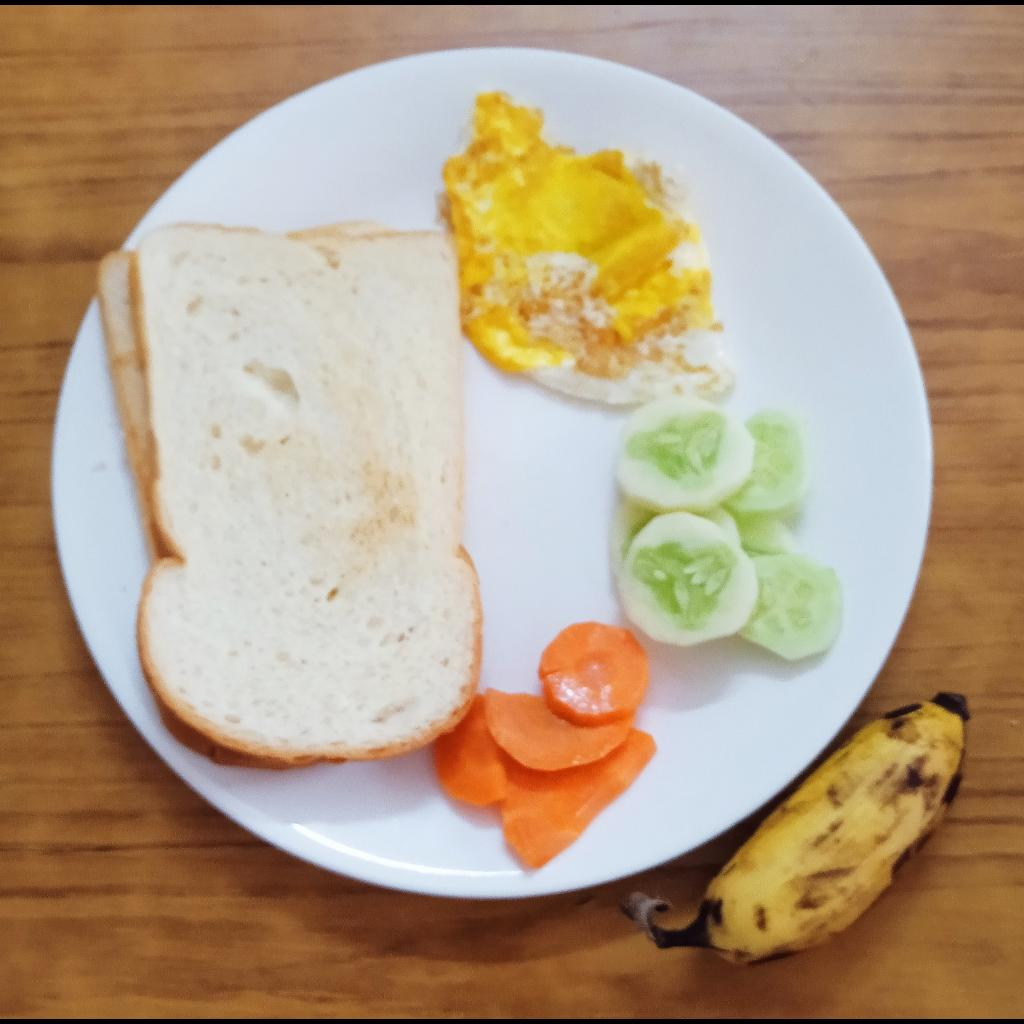banana: (619, 688, 971, 964)
bread: (92, 214, 483, 772)
carrot: (431, 621, 663, 874)
cucumber: (604, 395, 846, 665)
egg-poached: (435, 83, 749, 403)
